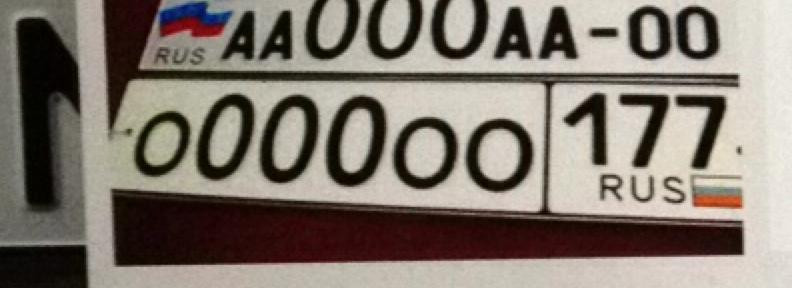license-plateSW: (107, 77, 759, 215)
